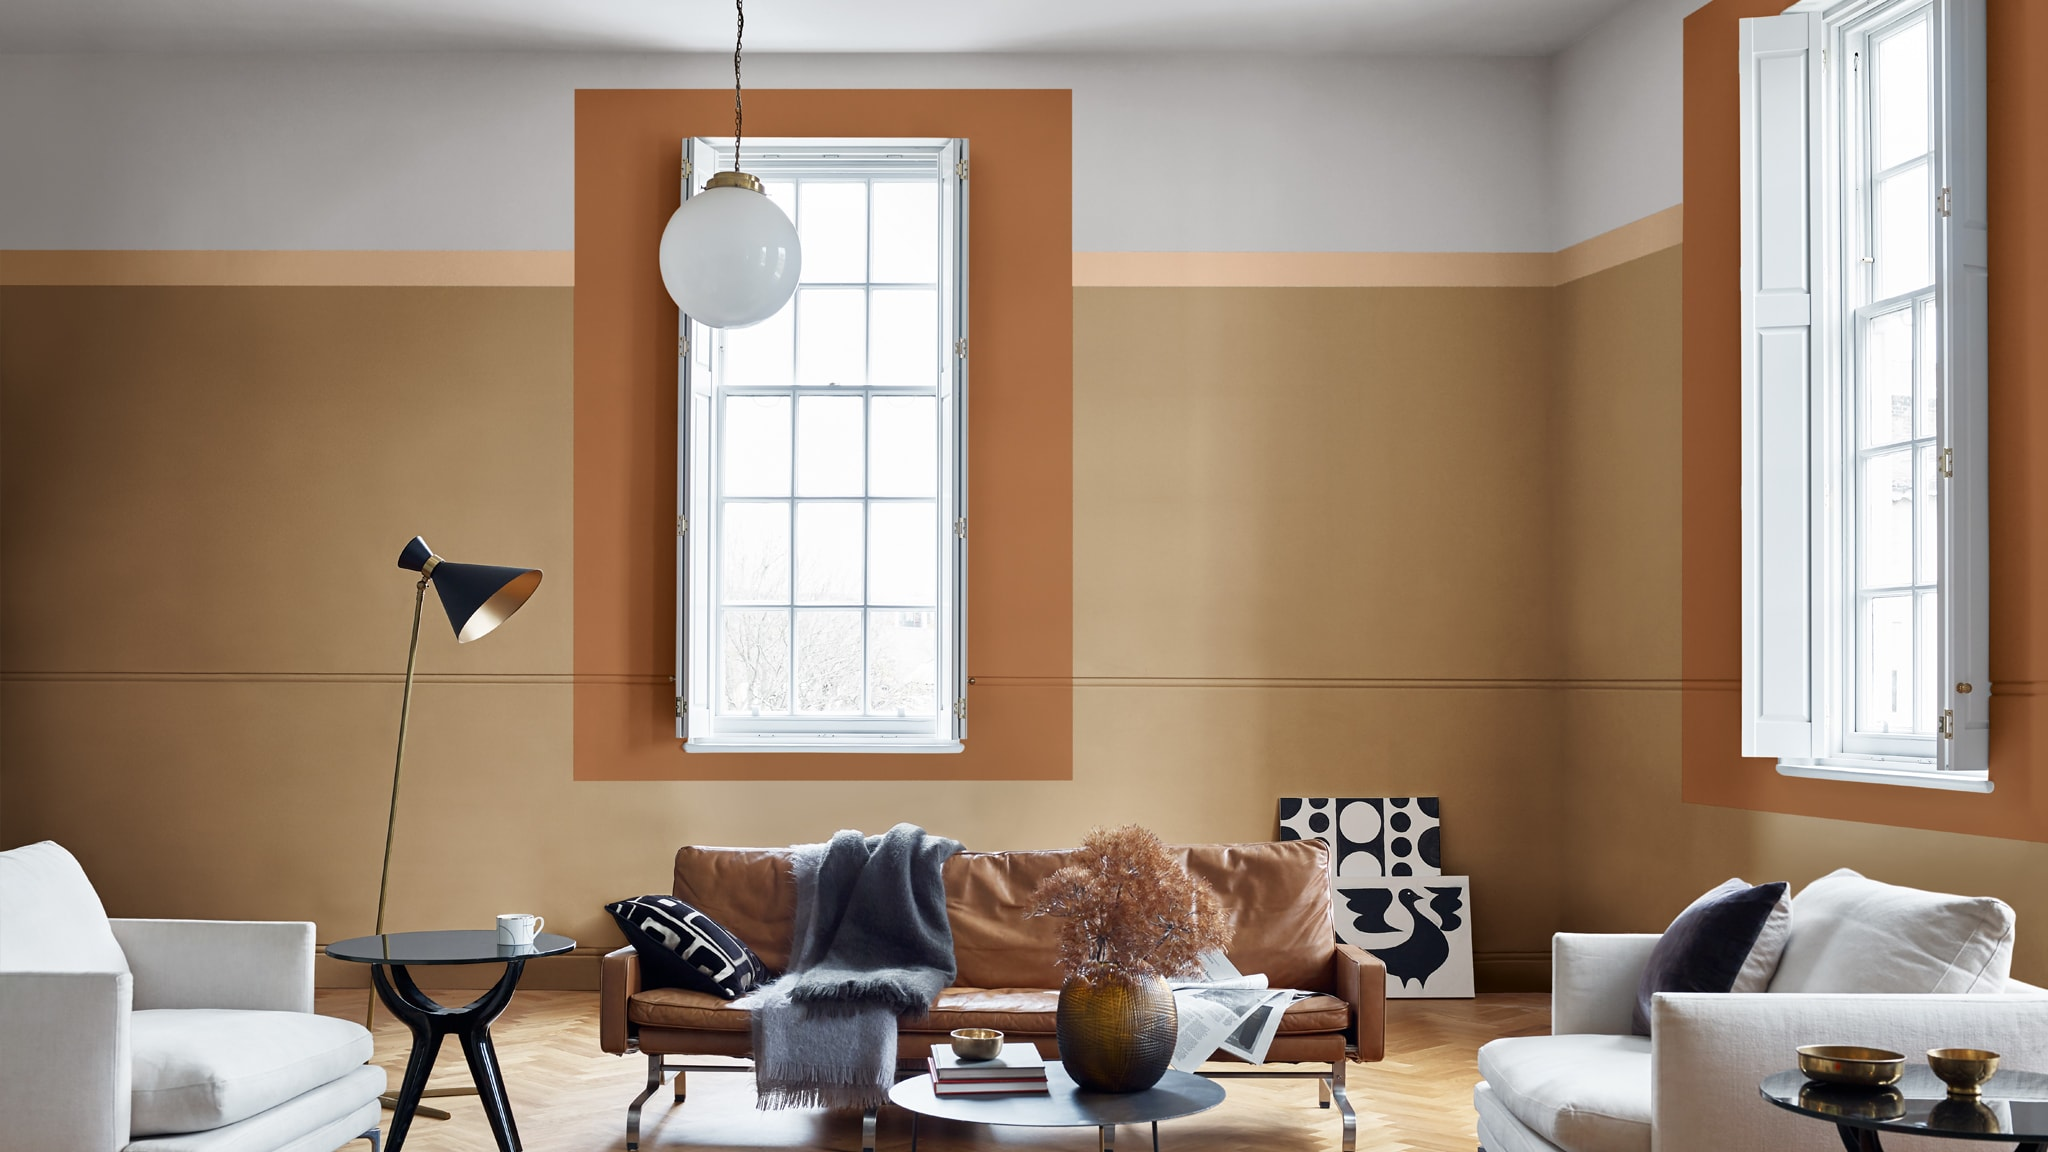bantal: (1643, 873, 1786, 1027), (609, 892, 765, 989)
buku: (928, 1032, 1054, 1099)
gelas: (1921, 1039, 2007, 1106), (497, 909, 550, 948)
kursi: (1476, 869, 2048, 1152), (1, 828, 378, 1152)
lampu: (383, 515, 550, 881), (647, 120, 816, 326)
lukisan: (1325, 793, 1478, 1001)
meja: (329, 921, 561, 1152), (899, 1047, 1243, 1152), (1768, 1035, 2048, 1152)
sova: (603, 838, 1371, 1152)
tanaman: (1030, 840, 1191, 1097)
